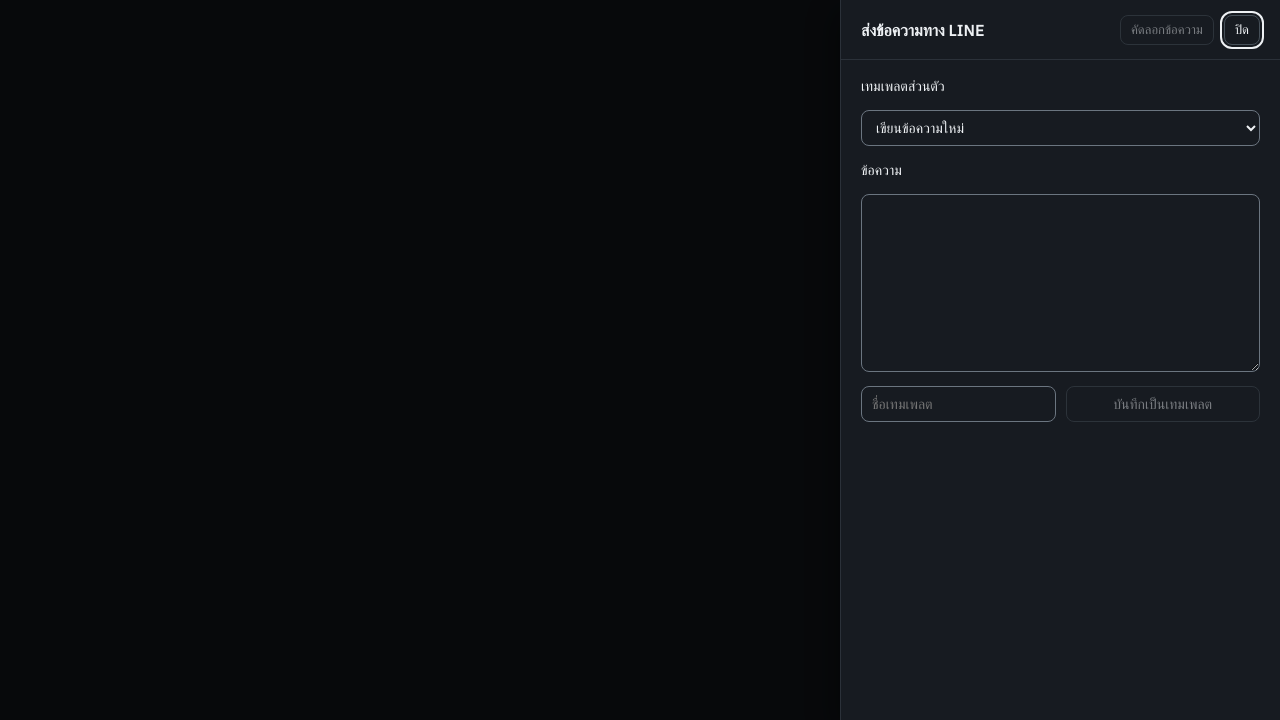
Test case: SocialComposer › selects a personal template, copies first, then reveals the LINE link
Later steps or results of the test are not shown.
Select "เตือนนัด" in the dropdown labelled "เทมเพลตส่วนตัว" at [1060, 128], box left=861, top=110, right=1260, bottom=146
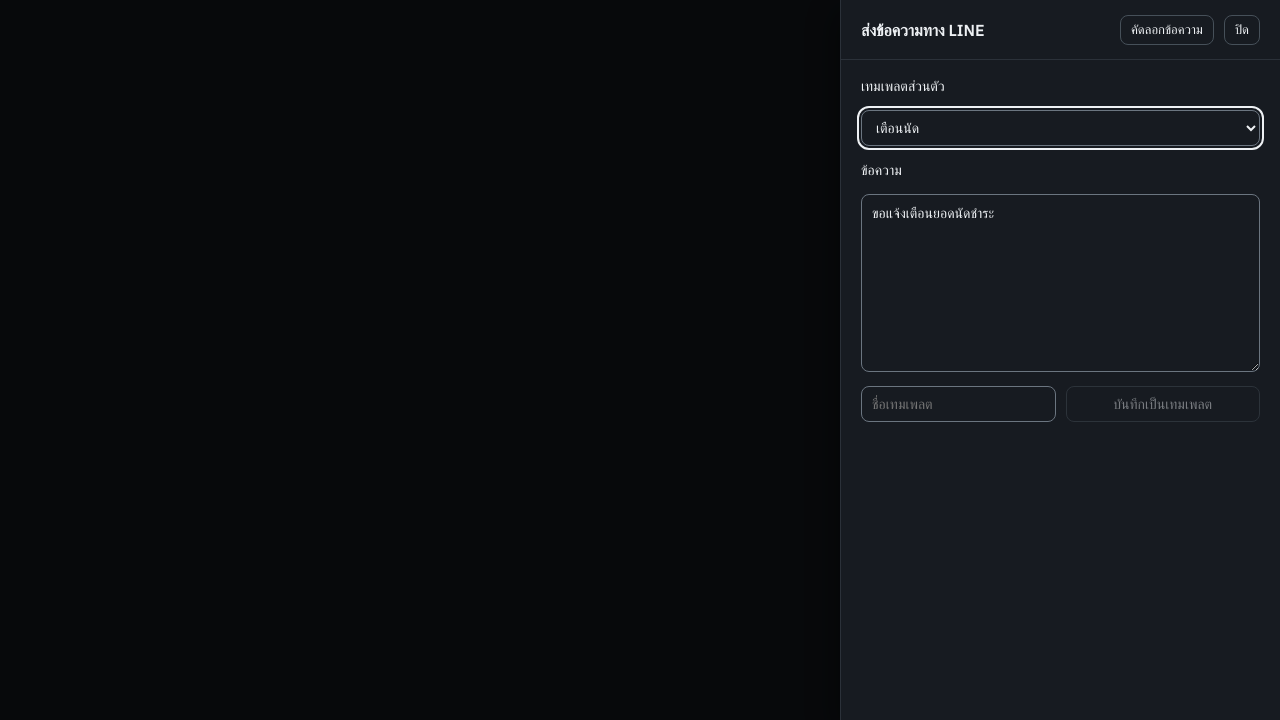
Expected: the text box labelled "ข้อความ" holds "ขอแจ้งเตือนยอดนัดชำระ", left=861, top=194, right=1260, bottom=372
